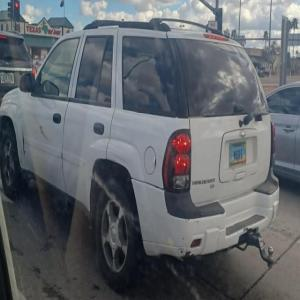Plate: (227, 139, 247, 169)
